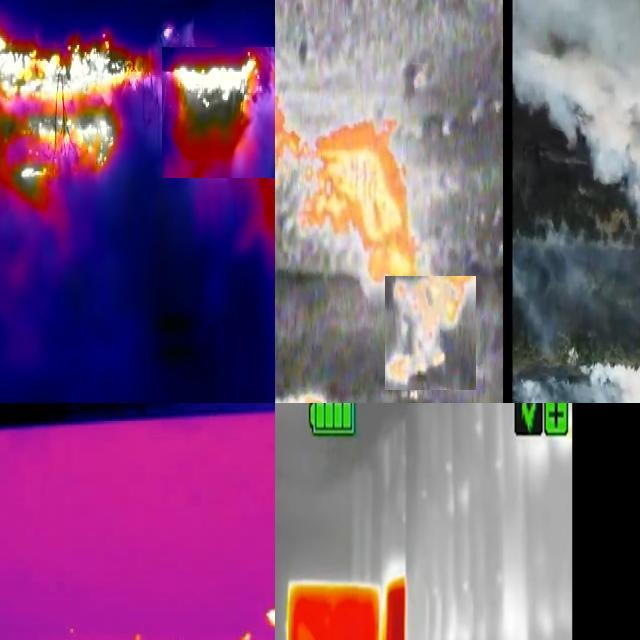fire: (1, 18, 156, 217), (294, 111, 421, 289), (162, 47, 276, 178), (385, 276, 476, 390), (276, 390, 331, 404)
